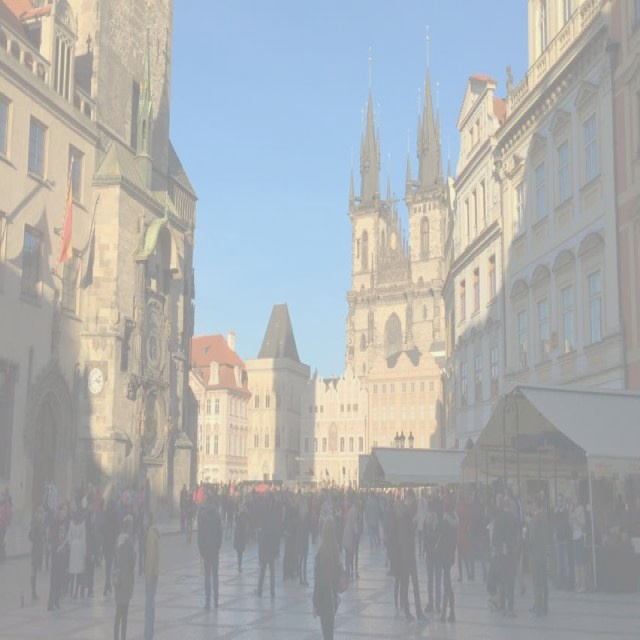pessoa: (178, 476, 437, 534), (60, 467, 154, 537), (312, 514, 350, 638), (522, 486, 552, 622), (460, 480, 562, 518), (108, 513, 138, 639), (403, 497, 431, 627), (419, 492, 446, 616), (196, 489, 223, 611), (96, 490, 124, 600), (436, 496, 460, 618), (140, 508, 162, 639), (46, 496, 70, 616), (498, 493, 521, 616), (253, 498, 280, 602), (440, 490, 460, 626), (387, 500, 408, 620), (567, 488, 589, 598), (278, 491, 302, 586), (27, 505, 49, 603), (486, 489, 504, 604), (453, 486, 472, 586), (552, 491, 570, 594), (348, 494, 368, 586), (468, 493, 488, 583), (41, 476, 59, 566), (296, 496, 312, 588), (232, 496, 250, 574), (520, 493, 536, 576), (342, 504, 357, 584), (0, 486, 12, 570), (367, 490, 383, 548), (364, 488, 378, 551), (0, 486, 13, 534), (178, 478, 188, 538), (224, 488, 234, 543), (184, 493, 193, 547), (68, 501, 77, 519)
